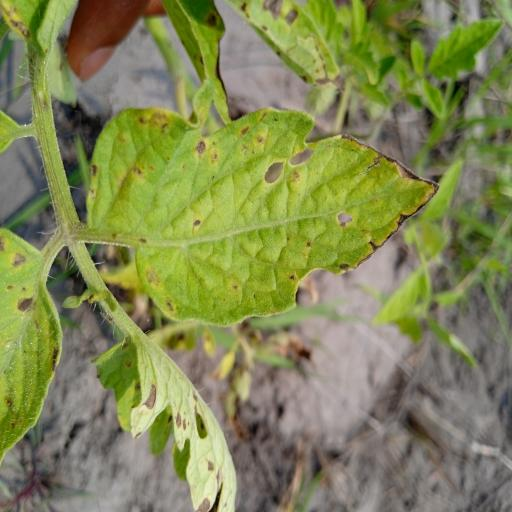Tomato_Brown_Spots: (77, 99, 442, 328)
